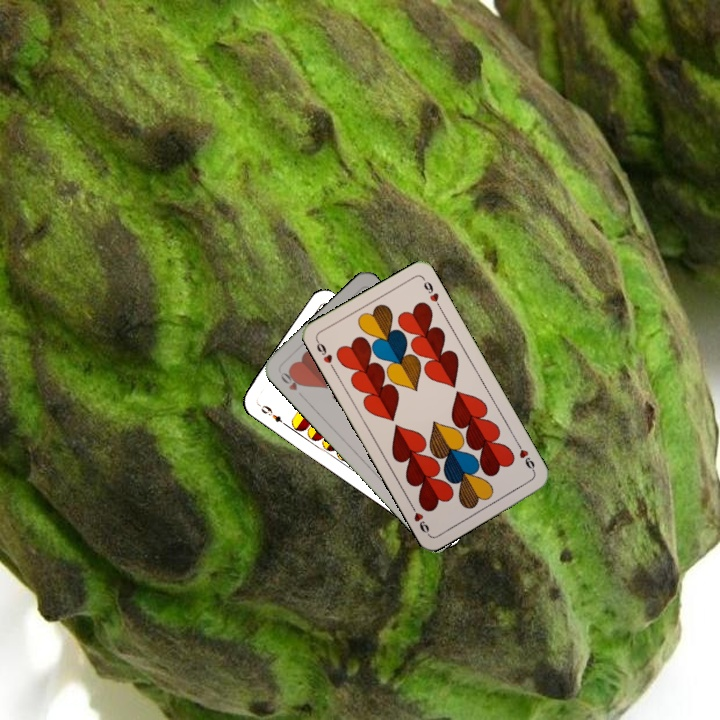E9: (254, 400, 289, 428)
H9: (312, 336, 338, 373), (512, 438, 538, 475)
HO: (276, 366, 306, 393)
